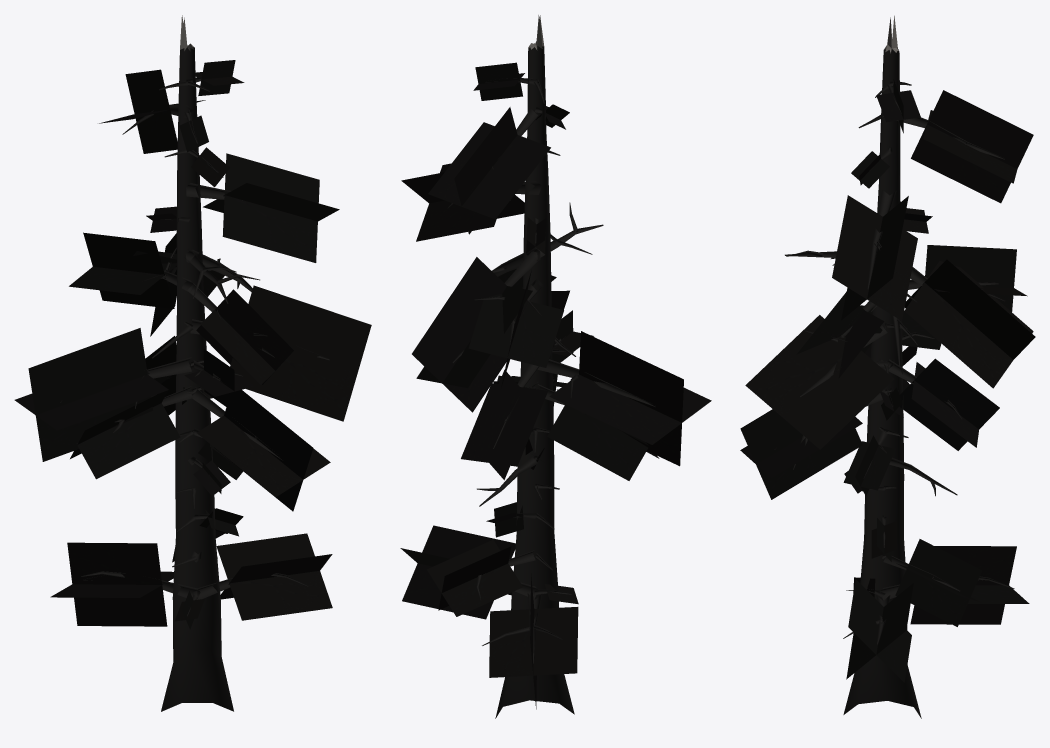
File: Pino_Muerto_Quemado.glb
The picture shows the model from 3 angles, left to right: view 1: azimuth 30°, elevation 25°; view 2: azimuth 150°, elevation 25°; view 3: azimuth 270°, elevation 25°; orthographic projection.
Parts seen in each view (by area): view 1: Pino_Muerto_Quemado; view 2: Pino_Muerto_Quemado; view 3: Pino_Muerto_Quemado.
Boxes of the visible parts, x1,y1,x2,y2 form: Pino_Muerto_Quemado: (14,15,371,711); Pino_Muerto_Quemado: (400,15,711,718); Pino_Muerto_Quemado: (740,15,1035,718).
Bounding box in the file's own units: 4.81 × 11.17 × 4.28.
Materials: 3 (1 with a texture image).
